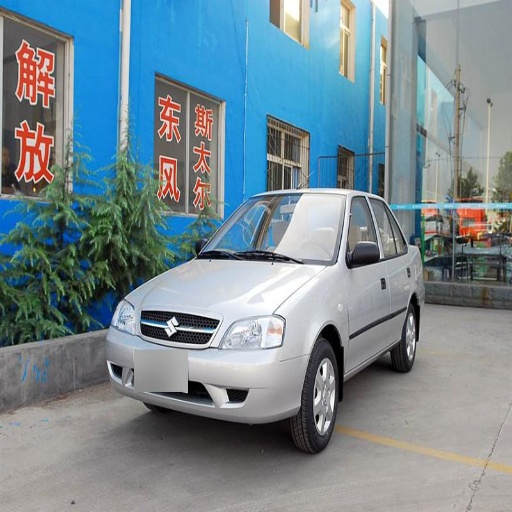front_bumper: (106, 309, 310, 423)
front_glass: (198, 194, 344, 263)
front_left_door: (346, 196, 387, 367)
